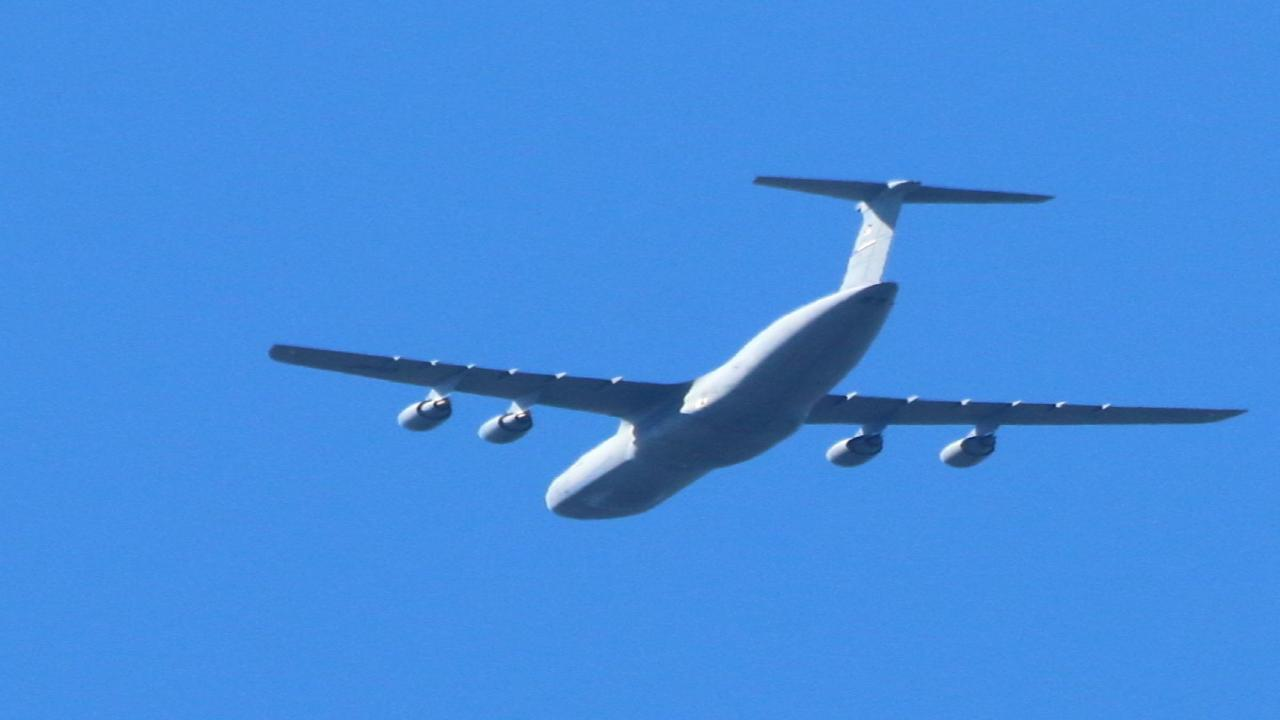Airplane: (231, 157, 1259, 535)
